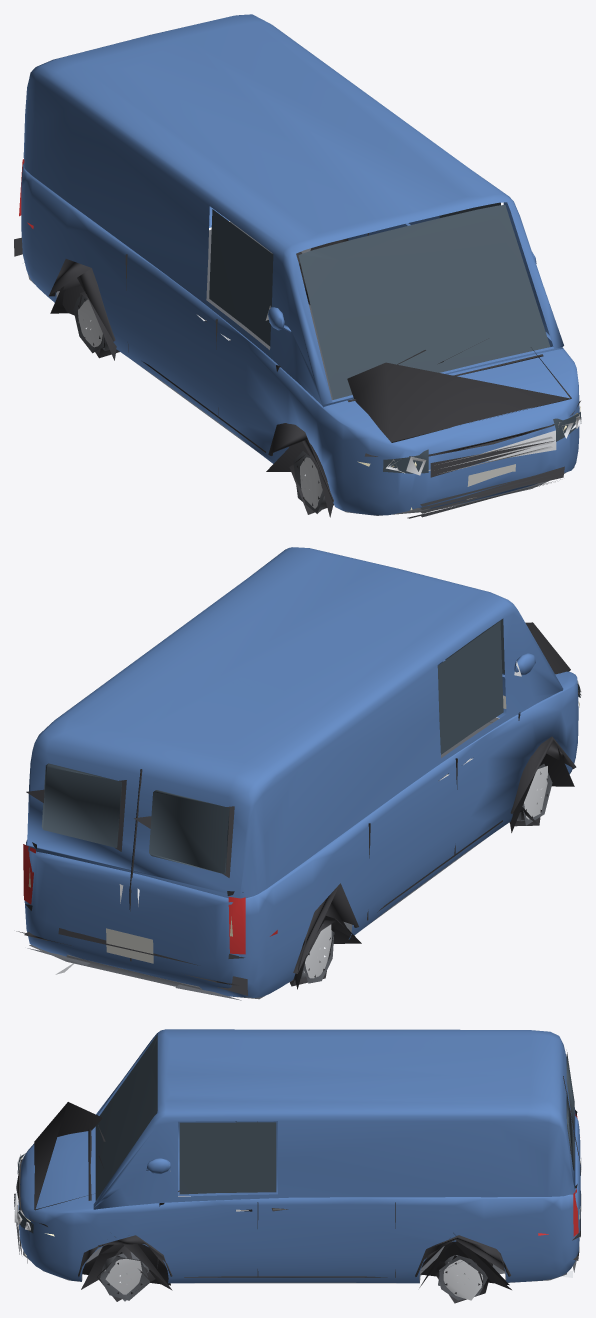
Rendered from CarV3_Van_L2.fbx.
3 views of the same model, one above another, from view 1: azimuth 30°, elevation 25°; view 2: azimuth 150°, elevation 25°; view 3: azimuth 270°, elevation 25° (orthographic). The views are drawn at different scales.
Parts seen in each view (by area): view 1: CarV3_Van.001; view 2: CarV3_Van.001; view 3: CarV3_Van.001.
Part boxes in pixels (x1,y1,x2,y2): CarV3_Van.001: [14, 14, 581, 518]; CarV3_Van.001: [16, 547, 581, 1000]; CarV3_Van.001: [14, 1029, 581, 1303].
Bounding box in the file's own units: 2.06 × 1.92 × 5.05.
